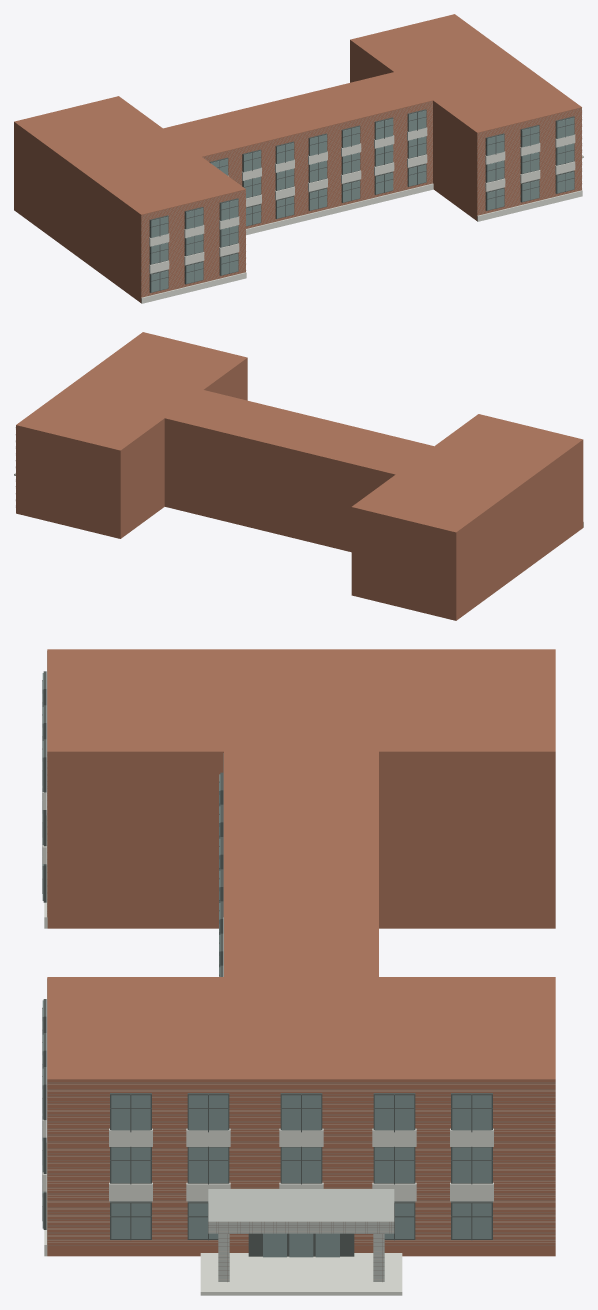
Rendered from buildings-55-medium.glb.
3 views of the same model, one above another, from view 1: azimuth 30°, elevation 25°; view 2: azimuth 150°, elevation 25°; view 3: azimuth 270°, elevation 25° (orthographic). The views are drawn at different scales.
Parts seen in each view (by area): view 1: 化学楼 · Chemistry red brick.001, 化学楼 · Chemistry glazing.001, 化学楼 · Chemistry joints.001, 化学楼 · Chemistry pale panels.001, 化学楼 · Chemistry dark frames.001; view 2: 化学楼 · Chemistry red brick.001; view 3: 化学楼 · Chemistry red brick.001, 化学楼 · Chemistry joints.001, 化学楼 · Chemistry glazing.001, 化学楼 · Chemistry pale panels.001, 化学楼 · Chemistry canopy tile.001, 化学楼 · Chemistry dark frames.001.
Part boxes in pixels (<box>): 化学楼 · Chemistry red brick.001: <box>14,14,581,302</box>; 化学楼 · Chemistry glazing.001: <box>151,110,574,292</box>; 化学楼 · Chemistry joints.001: <box>141,101,582,296</box>; 化学楼 · Chemistry pale panels.001: <box>141,127,583,303</box>; 化学楼 · Chemistry dark frames.001: <box>149,109,574,292</box>; 化学楼 · Chemistry red brick.001: <box>16,332,583,620</box>; 化学楼 · Chemistry red brick.001: <box>47,649,555,1256</box>; 化学楼 · Chemistry joints.001: <box>47,651,555,1281</box>; 化学楼 · Chemistry glazing.001: <box>42,673,491,1257</box>; 化学楼 · Chemistry pale panels.001: <box>42,792,493,1295</box>; 化学楼 · Chemistry canopy tile.001: <box>208,1189,394,1281</box>; 化学楼 · Chemistry dark frames.001: <box>42,671,492,1256</box>.
Size of the model in its own units: 71.6 by 12.6 by 33.12.
